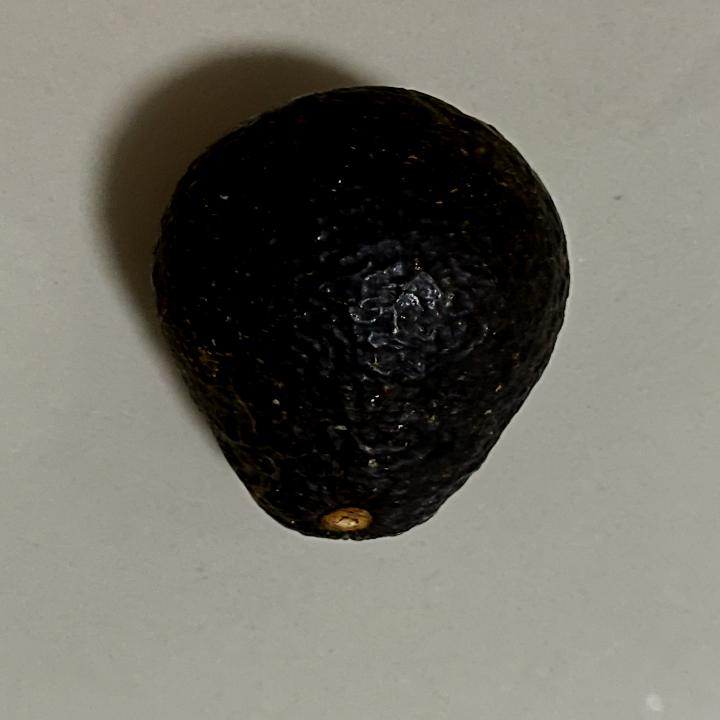Level2: (145, 82, 581, 550)
